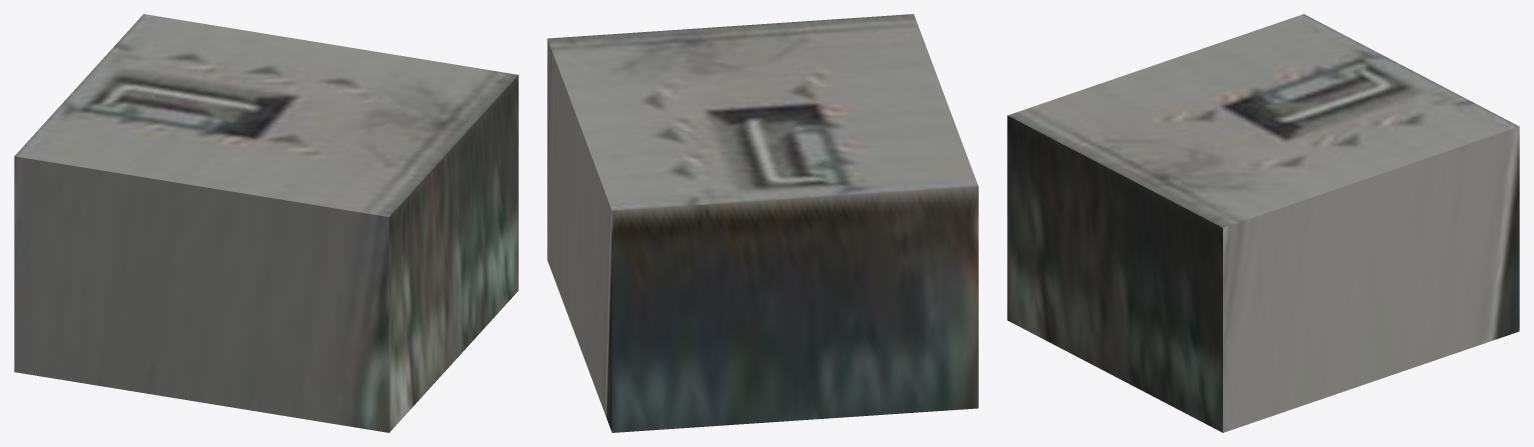
Rendered from {967C7BED-FCDD-43DC-A107-A6FDB701FB80}.gltf.
3 views of the same model, side by side, from view 1: azimuth 30°, elevation 25°; view 2: azimuth 150°, elevation 25°; view 3: azimuth 270°, elevation 25° (orthographic). The views are drawn at different scales.
Parts seen in each view (by area): view 1: Z_UP; view 2: Z_UP; view 3: Z_UP.
Part boxes in pixels (x1,y1,x2,y2): Z_UP: (14, 14, 518, 432); Z_UP: (547, 14, 978, 432); Z_UP: (1007, 14, 1519, 432).
Size of the model in its own units: 9.6 by 4.29 by 9.7.
Materials: 4 (3 with a texture image).
